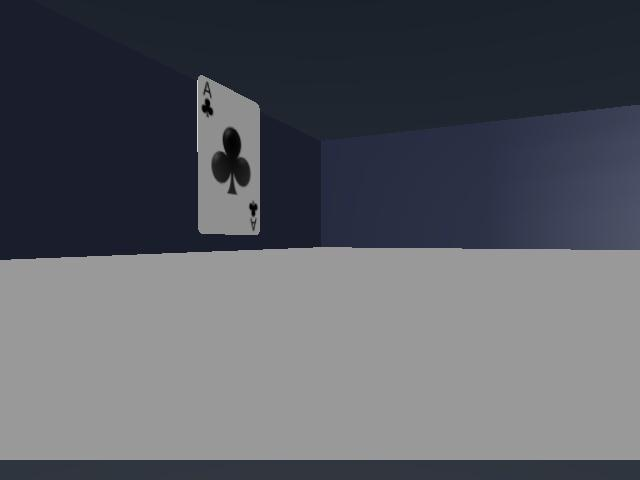club: (198, 76, 260, 234)
